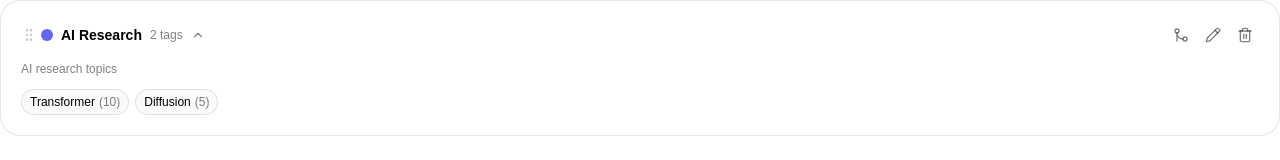
Test: TagGroupCard › toggles tag list on header click
Click the button "AI Research 2 tags" at (101, 35), box top-left (41, 25), bottom-right (1163, 45)
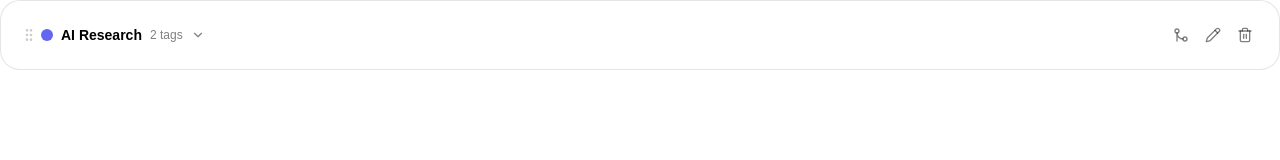
Expected: the button "Transformer" is gone
Click the button "AI Research 2 tags" at (101, 35), box top-left (41, 25), bottom-right (1163, 45)
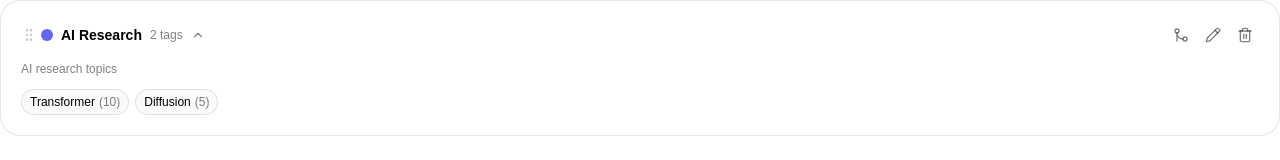
Expected: the button "Transformer (10)" is shown, top-left (21, 89), bottom-right (129, 115)
